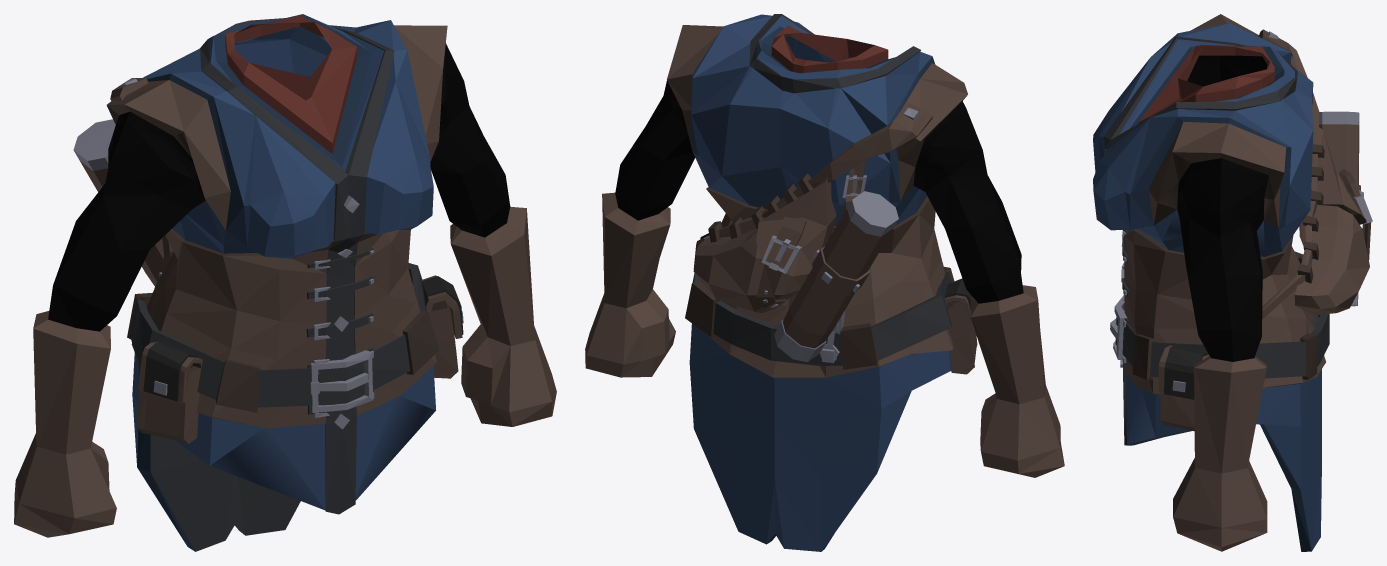
Rendered from FemaleMageChest.dae.
3 renders of one model, left to right at view 1: azimuth 30°, elevation 25°; view 2: azimuth 150°, elevation 25°; view 3: azimuth 270°, elevation 25°, orthographic. The views are drawn at different scales.
Visible parts, largest first — view 1: FemaleChest; view 2: FemaleChest; view 3: FemaleChest.
Part boxes in pixels (x1=…): FemaleChest: x1=14, y1=14, x2=556, y2=551; FemaleChest: x1=585, y1=14, x2=1064, y2=551; FemaleChest: x1=1093, y1=14, x2=1372, y2=551.
Size of the model in its own units: 5.15 by 2.61 by 4.86.
